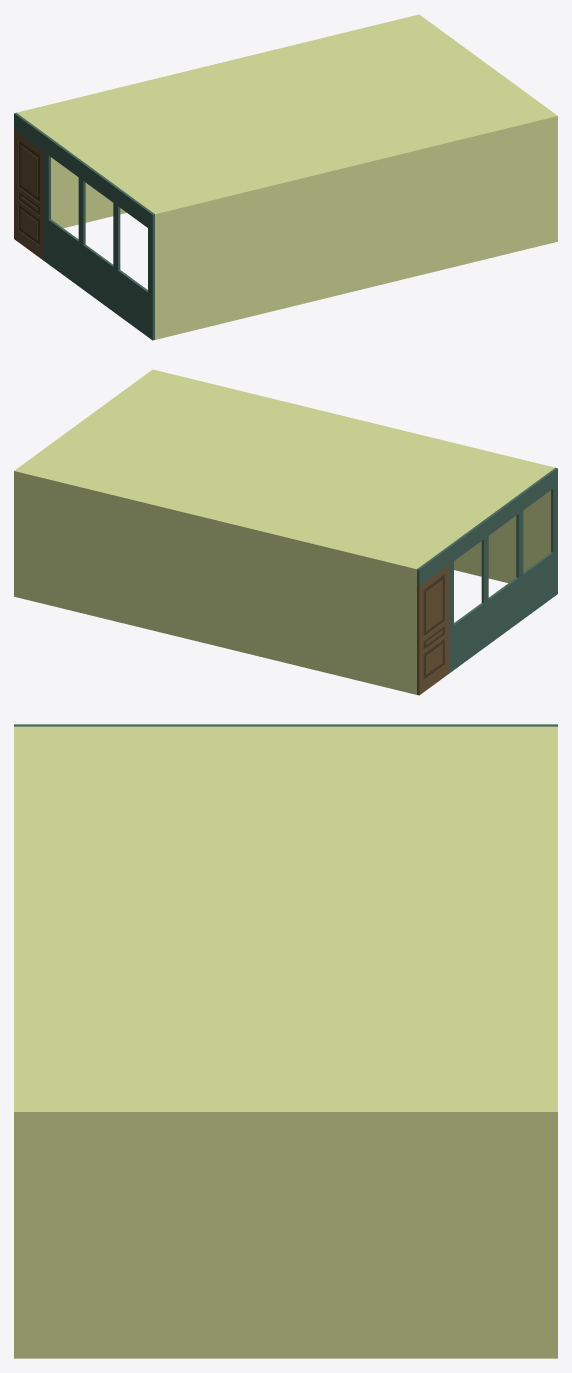
Rendered from Workshop2.fbx.
3 renders of one model, top to bottom at view 1: azimuth 30°, elevation 25°; view 2: azimuth 150°, elevation 25°; view 3: azimuth 270°, elevation 25°, orthographic. The views are drawn at different scales.
Visible parts, largest first — view 1: Ceiling.001, Wall1.001, Window.001, Door.001, Wall3.001, Wall2.001, DoorFrame.001; view 2: Ceiling.001, Wall3.001, Window.001, Wall1.001, Door.001, Wall2.001, DoorFrame.001; view 3: Ceiling.001, Wall2.001, Wall1.001, Window.001.
Boxes of the visible parts, x1=… form: Ceiling.001: x1=17, y1=15, x2=555, y2=216; Wall1.001: x1=154, y1=115, x2=555, y2=339; Window.001: x1=44, y1=134, x2=154, y2=340; Door.001: x1=14, y1=130, x2=43, y2=260; Wall3.001: x1=51, y1=16, x2=413, y2=228; Wall2.001: x1=417, y1=14, x2=557, y2=241; DoorFrame.001: x1=14, y1=112, x2=45, y2=151; Ceiling.001: x1=16, y1=371, x2=553, y2=569; Wall3.001: x1=16, y1=471, x2=416, y2=694; Window.001: x1=447, y1=467, x2=557, y2=673; Wall1.001: x1=154, y1=370, x2=554, y2=583; Door.001: x1=417, y1=565, x2=449, y2=695; Wall2.001: x1=14, y1=369, x2=154, y2=596; DoorFrame.001: x1=417, y1=547, x2=449, y2=586; Ceiling.001: x1=14, y1=726, x2=557, y2=1109; Wall2.001: x1=14, y1=1109, x2=557, y2=1358; Wall1.001: x1=14, y1=726, x2=19, y2=1109; Window.001: x1=14, y1=724, x2=439, y2=726.
Size of the model in its own units: 101200 by 30000 by 60000.
